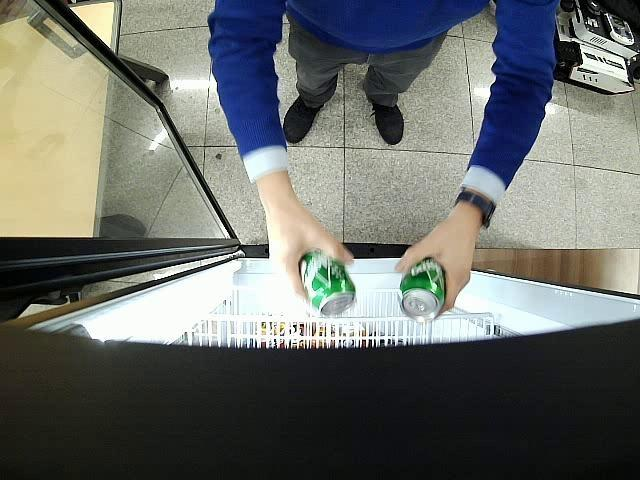12_chilsungCider: (299, 250, 356, 316), (398, 258, 446, 322)
